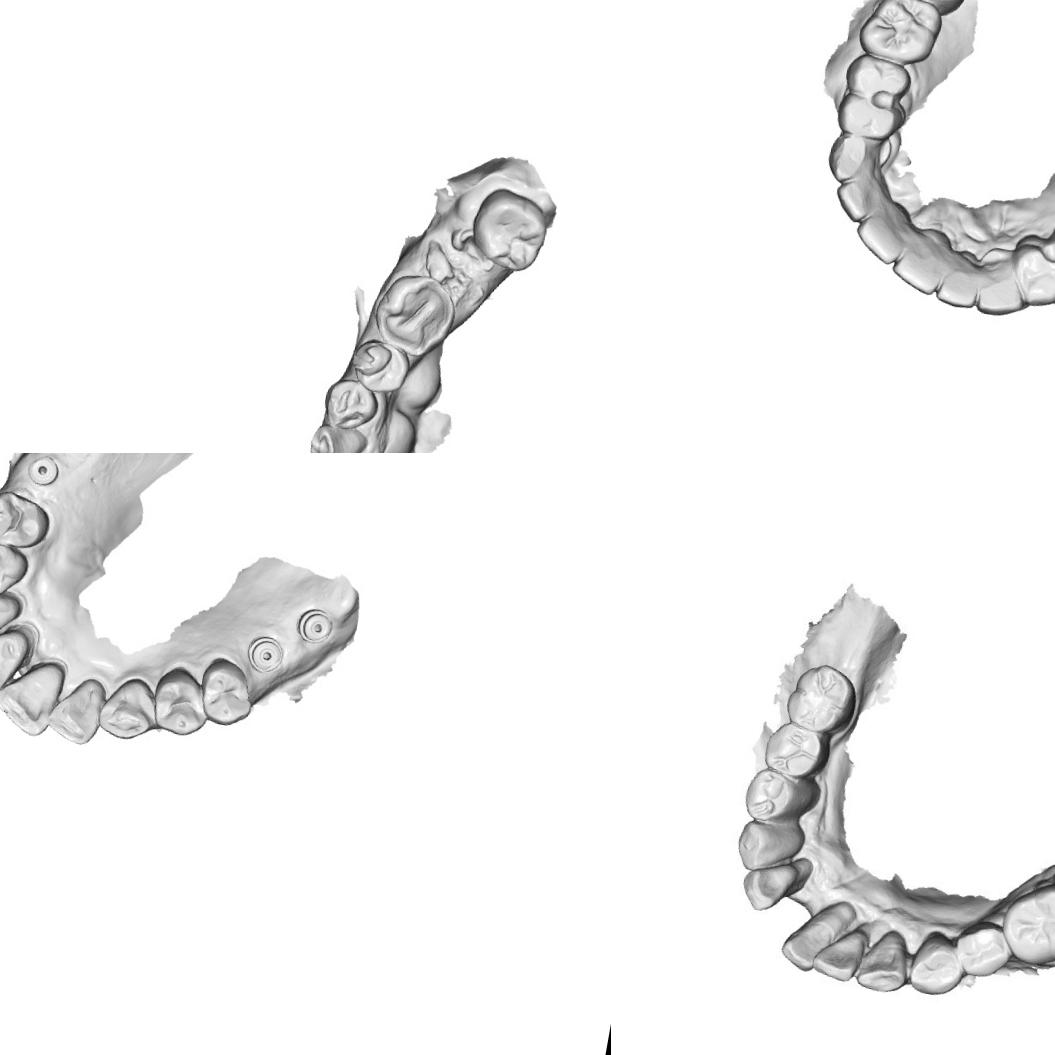canine: (730, 810, 808, 880), (848, 922, 916, 1000), (94, 671, 164, 745), (822, 129, 882, 188), (974, 262, 1028, 321), (303, 418, 369, 453), (0, 536, 31, 604)
implant: (292, 604, 336, 648), (243, 632, 285, 674), (23, 453, 60, 487)
incisor: (0, 652, 67, 740), (774, 903, 844, 976), (43, 671, 109, 748), (736, 854, 804, 918), (886, 241, 946, 298), (810, 926, 864, 988), (850, 207, 906, 266), (0, 617, 30, 705), (831, 178, 882, 225), (934, 262, 982, 311), (0, 585, 24, 654)
molar: (463, 179, 562, 278), (366, 267, 459, 362), (779, 654, 863, 742), (991, 871, 1055, 974), (853, 0, 946, 69), (889, 0, 978, 20)
premolar: (757, 715, 829, 788), (146, 662, 214, 739), (194, 654, 258, 730), (735, 762, 811, 826), (346, 333, 418, 399), (906, 924, 968, 1000), (950, 916, 1016, 983), (832, 90, 909, 143), (841, 48, 915, 103), (1002, 237, 1055, 312), (320, 374, 382, 435), (0, 486, 53, 552)
